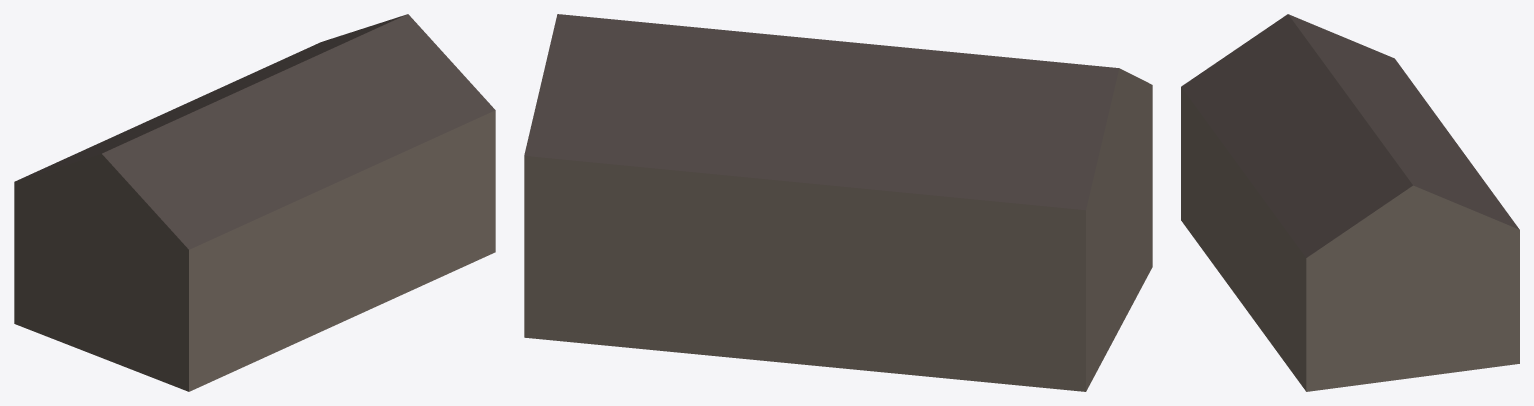
The picture shows the model from 3 angles, left to right: view 1: azimuth 30°, elevation 25°; view 2: azimuth 150°, elevation 25°; view 3: azimuth 270°, elevation 25°; orthographic projection. The views are drawn at different scales.
Parts seen in each view (by area): view 1: HP-w859082514; view 2: HP-w859082514; view 3: HP-w859082514.
Boxes of the visible parts, bbox=[...] form: HP-w859082514: bbox=[14, 14, 495, 391]; HP-w859082514: bbox=[524, 14, 1152, 391]; HP-w859082514: bbox=[1181, 14, 1519, 391].
Size of the model in its own units: 19.19 by 8.63 by 13.76.
